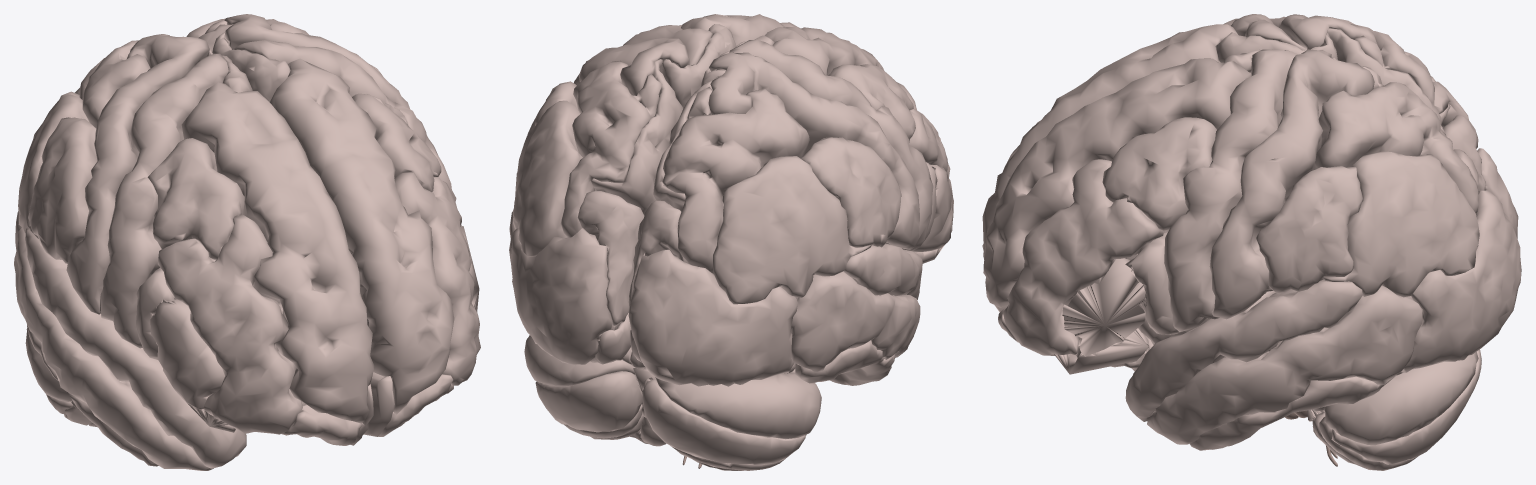
The model's file is atlas_nervous_mni152.nervous.LOD2.glb.
3 views of the same model, side by side, from view 1: azimuth 30°, elevation 25°; view 2: azimuth 150°, elevation 25°; view 3: azimuth 270°, elevation 25° (orthographic). The views are drawn at different scales.
Parts seen in each view (by area): view 1: ATLAS.NERVOUS.MNI152.NERVOUS.SUPERIOR_FRONTAL_GYRUS.R, ATLAS.NERVOUS.MNI152.NERVOUS.SUPERIOR_FRONTAL_GYRUS.L, ATLAS.NERVOUS.MNI152.NERVOUS.ROSTRAL_MIDDLE_FRONTAL_GYRUS.R, ATLAS.NERVOUS.MNI152.NERVOUS.PRECENTRAL_GYRUS.R, ATLAS.NERVOUS.MNI152.NERVOUS.SUPERIOR_TEMPORAL_GYRUS.R, ATLAS.NERVOUS.MNI152.NERVOUS.POSTCENTRAL_GYRUS.R, ATLAS.NERVOUS.MNI152.NERVOUS.MIDDLE_TEMPORAL_GYRUS.R, ATLAS.NERVOUS.MNI152.NERVOUS.CAUDAL_MIDDLE_FRONTAL_GYRUS.R, ATLAS.NERVOUS.MNI152.NERVOUS.ROSTRAL_MIDDLE_FRONTAL_GYRUS.L, ATLAS.NERVOUS.MNI152.NERVOUS.SUPRAMARGINAL_GYRUS.R, ATLAS.NERVOUS.MNI152.NERVOUS.INFERIOR_FRONTAL_GYRUS_PARS_TRI, ATLAS.NERVOUS.MNI152.NERVOUS.PRECENTRAL_GYRUS.L (+13 smaller); view 2: ATLAS.NERVOUS.MNI152.NERVOUS.INFERIOR_PARIETAL_LOBULE_ANGULA (×2), ATLAS.NERVOUS.MNI152.NERVOUS.LATERAL_OCCIPITAL_CORTEX.R, ATLAS.NERVOUS.MNI152.NERVOUS.SUPERIOR_PARIETAL_LOBULE.R, ATLAS.NERVOUS.MNI152.NERVOUS.LATERAL_OCCIPITAL_CORTEX.L, ATLAS.NERVOUS.MNI152.NERVOUS.POSTCENTRAL_GYRUS.R, ATLAS.NERVOUS.MNI152.NERVOUS.MIDDLE_TEMPORAL_GYRUS.R, ATLAS.NERVOUS.MNI152.NERVOUS.SUPERIOR_PARIETAL_LOBULE.L, ATLAS.NERVOUS.MNI152.NERVOUS.CRUS_I.R, ATLAS.NERVOUS.MNI152.NERVOUS.SUPRAMARGINAL_GYRUS.R, ATLAS.NERVOUS.MNI152.NERVOUS.CRUS_II.R, ATLAS.NERVOUS.MNI152.NERVOUS.PRECENTRAL_GYRUS.R, ATLAS.NERVOUS.MNI152.NERVOUS.CRUS_II.L (+19 smaller); view 3: ATLAS.NERVOUS.MNI152.NERVOUS.SUPERIOR_FRONTAL_GYRUS.L, ATLAS.NERVOUS.MNI152.NERVOUS.MIDDLE_TEMPORAL_GYRUS.L, ATLAS.NERVOUS.MNI152.NERVOUS.INFERIOR_PARIETAL_LOBULE_ANGULA, ATLAS.NERVOUS.MNI152.NERVOUS.POSTCENTRAL_GYRUS.L, ATLAS.NERVOUS.MNI152.NERVOUS.ROSTRAL_MIDDLE_FRONTAL_GYRUS.L, ATLAS.NERVOUS.MNI152.NERVOUS.PRECENTRAL_GYRUS.L, ATLAS.NERVOUS.MNI152.NERVOUS.SUPERIOR_TEMPORAL_GYRUS.L, ATLAS.NERVOUS.MNI152.NERVOUS.LATERAL_OCCIPITAL_CORTEX.L, ATLAS.NERVOUS.MNI152.NERVOUS.SUPERIOR_PARIETAL_LOBULE.L, ATLAS.NERVOUS.MNI152.NERVOUS.SUPRAMARGINAL_GYRUS.L, ATLAS.NERVOUS.MNI152.NERVOUS.CAUDAL_MIDDLE_FRONTAL_GYRUS.L, ATLAS.NERVOUS.MNI152.NERVOUS.CRUS_I.L (+14 smaller).
Boxes of the visible parts, x1,y1,x2,y2 form: ATLAS.NERVOUS.MNI152.NERVOUS.SUPERIOR_FRONTAL_GYRUS.R: (181,82,374,423); ATLAS.NERVOUS.MNI152.NERVOUS.SUPERIOR_FRONTAL_GYRUS.L: (269,58,454,414); ATLAS.NERVOUS.MNI152.NERVOUS.ROSTRAL_MIDDLE_FRONTAL_GYRUS.R: (158,215,302,434); ATLAS.NERVOUS.MNI152.NERVOUS.PRECENTRAL_GYRUS.R: (100,53,228,348); ATLAS.NERVOUS.MNI152.NERVOUS.SUPERIOR_TEMPORAL_GYRUS.R: (25,228,246,468); ATLAS.NERVOUS.MNI152.NERVOUS.POSTCENTRAL_GYRUS.R: (66,34,209,314); ATLAS.NERVOUS.MNI152.NERVOUS.MIDDLE_TEMPORAL_GYRUS.R: (14,227,213,470); ATLAS.NERVOUS.MNI152.NERVOUS.CAUDAL_MIDDLE_FRONTAL_GYRUS.R: (147,138,244,259); ATLAS.NERVOUS.MNI152.NERVOUS.ROSTRAL_MIDDLE_FRONTAL_GYRUS.L: (394,171,480,385); ATLAS.NERVOUS.MNI152.NERVOUS.SUPRAMARGINAL_GYRUS.R: (28,117,97,263); ATLAS.NERVOUS.MNI152.NERVOUS.INFERIOR_FRONTAL_GYRUS_PARS_TRI: (150,299,224,409); ATLAS.NERVOUS.MNI152.NERVOUS.PRECENTRAL_GYRUS.L: (234,40,456,201); ATLAS.NERVOUS.MNI152.NERVOUS.INFERIOR_PARIETAL_LOBULE_ANGULA (×2): (512,100,871,304); ATLAS.NERVOUS.MNI152.NERVOUS.LATERAL_OCCIPITAL_CORTEX.R: (628,249,797,386); ATLAS.NERVOUS.MNI152.NERVOUS.SUPERIOR_PARIETAL_LOBULE.R: (662,87,809,273); ATLAS.NERVOUS.MNI152.NERVOUS.LATERAL_OCCIPITAL_CORTEX.L: (511,227,612,365); ATLAS.NERVOUS.MNI152.NERVOUS.POSTCENTRAL_GYRUS.R: (708,52,919,249); ATLAS.NERVOUS.MNI152.NERVOUS.MIDDLE_TEMPORAL_GYRUS.R: (791,271,920,372); ATLAS.NERVOUS.MNI152.NERVOUS.SUPERIOR_PARIETAL_LOBULE.L: (560,60,662,237); ATLAS.NERVOUS.MNI152.NERVOUS.CRUS_I.R: (655,372,821,439); ATLAS.NERVOUS.MNI152.NERVOUS.SUPRAMARGINAL_GYRUS.R: (800,137,901,247); ATLAS.NERVOUS.MNI152.NERVOUS.CRUS_II.R: (642,379,806,465); ATLAS.NERVOUS.MNI152.NERVOUS.PRECENTRAL_GYRUS.R: (729,40,933,250); ATLAS.NERVOUS.MNI152.NERVOUS.CRUS_II.L: (535,371,642,432); ATLAS.NERVOUS.MNI152.NERVOUS.SUPERIOR_FRONTAL_GYRUS.L: (983,58,1250,312); ATLAS.NERVOUS.MNI152.NERVOUS.MIDDLE_TEMPORAL_GYRUS.L: (1147,285,1422,444); ATLAS.NERVOUS.MNI152.NERVOUS.INFERIOR_PARIETAL_LOBULE_ANGULA: (1324,151,1479,297); ATLAS.NERVOUS.MNI152.NERVOUS.POSTCENTRAL_GYRUS.L: (1209,49,1374,319); ATLAS.NERVOUS.MNI152.NERVOUS.ROSTRAL_MIDDLE_FRONTAL_GYRUS.L: (1003,159,1163,355); ATLAS.NERVOUS.MNI152.NERVOUS.PRECENTRAL_GYRUS.L: (1164,49,1296,332); ATLAS.NERVOUS.MNI152.NERVOUS.SUPERIOR_TEMPORAL_GYRUS.L: (1125,279,1362,421); ATLAS.NERVOUS.MNI152.NERVOUS.LATERAL_OCCIPITAL_CORTEX.L: (1401,188,1521,372); ATLAS.NERVOUS.MNI152.NERVOUS.SUPERIOR_PARIETAL_LOBULE.L: (1312,66,1478,213); ATLAS.NERVOUS.MNI152.NERVOUS.SUPRAMARGINAL_GYRUS.L: (1256,166,1363,293); ATLAS.NERVOUS.MNI152.NERVOUS.CAUDAL_MIDDLE_FRONTAL_GYRUS.L: (1102,117,1216,232); ATLAS.NERVOUS.MNI152.NERVOUS.CRUS_I.L: (1325,352,1478,445).
Size of the model in its own units: 0.1448 by 0.1588 by 0.1815.
